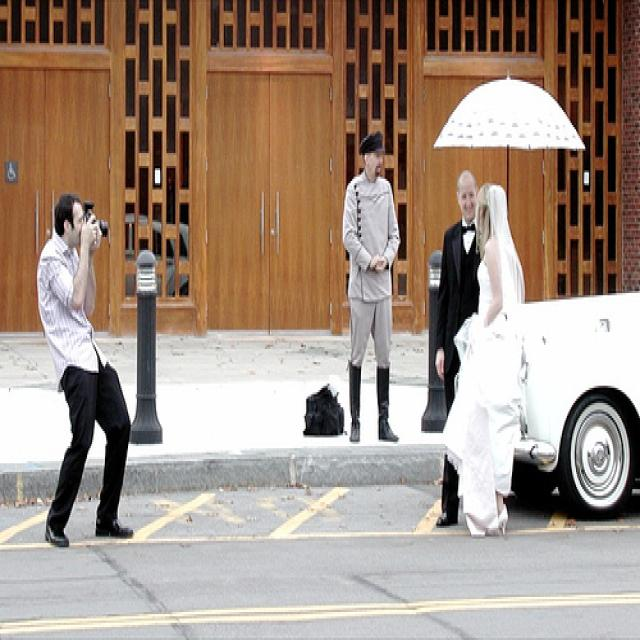Vehicle: (514, 288, 640, 516)
